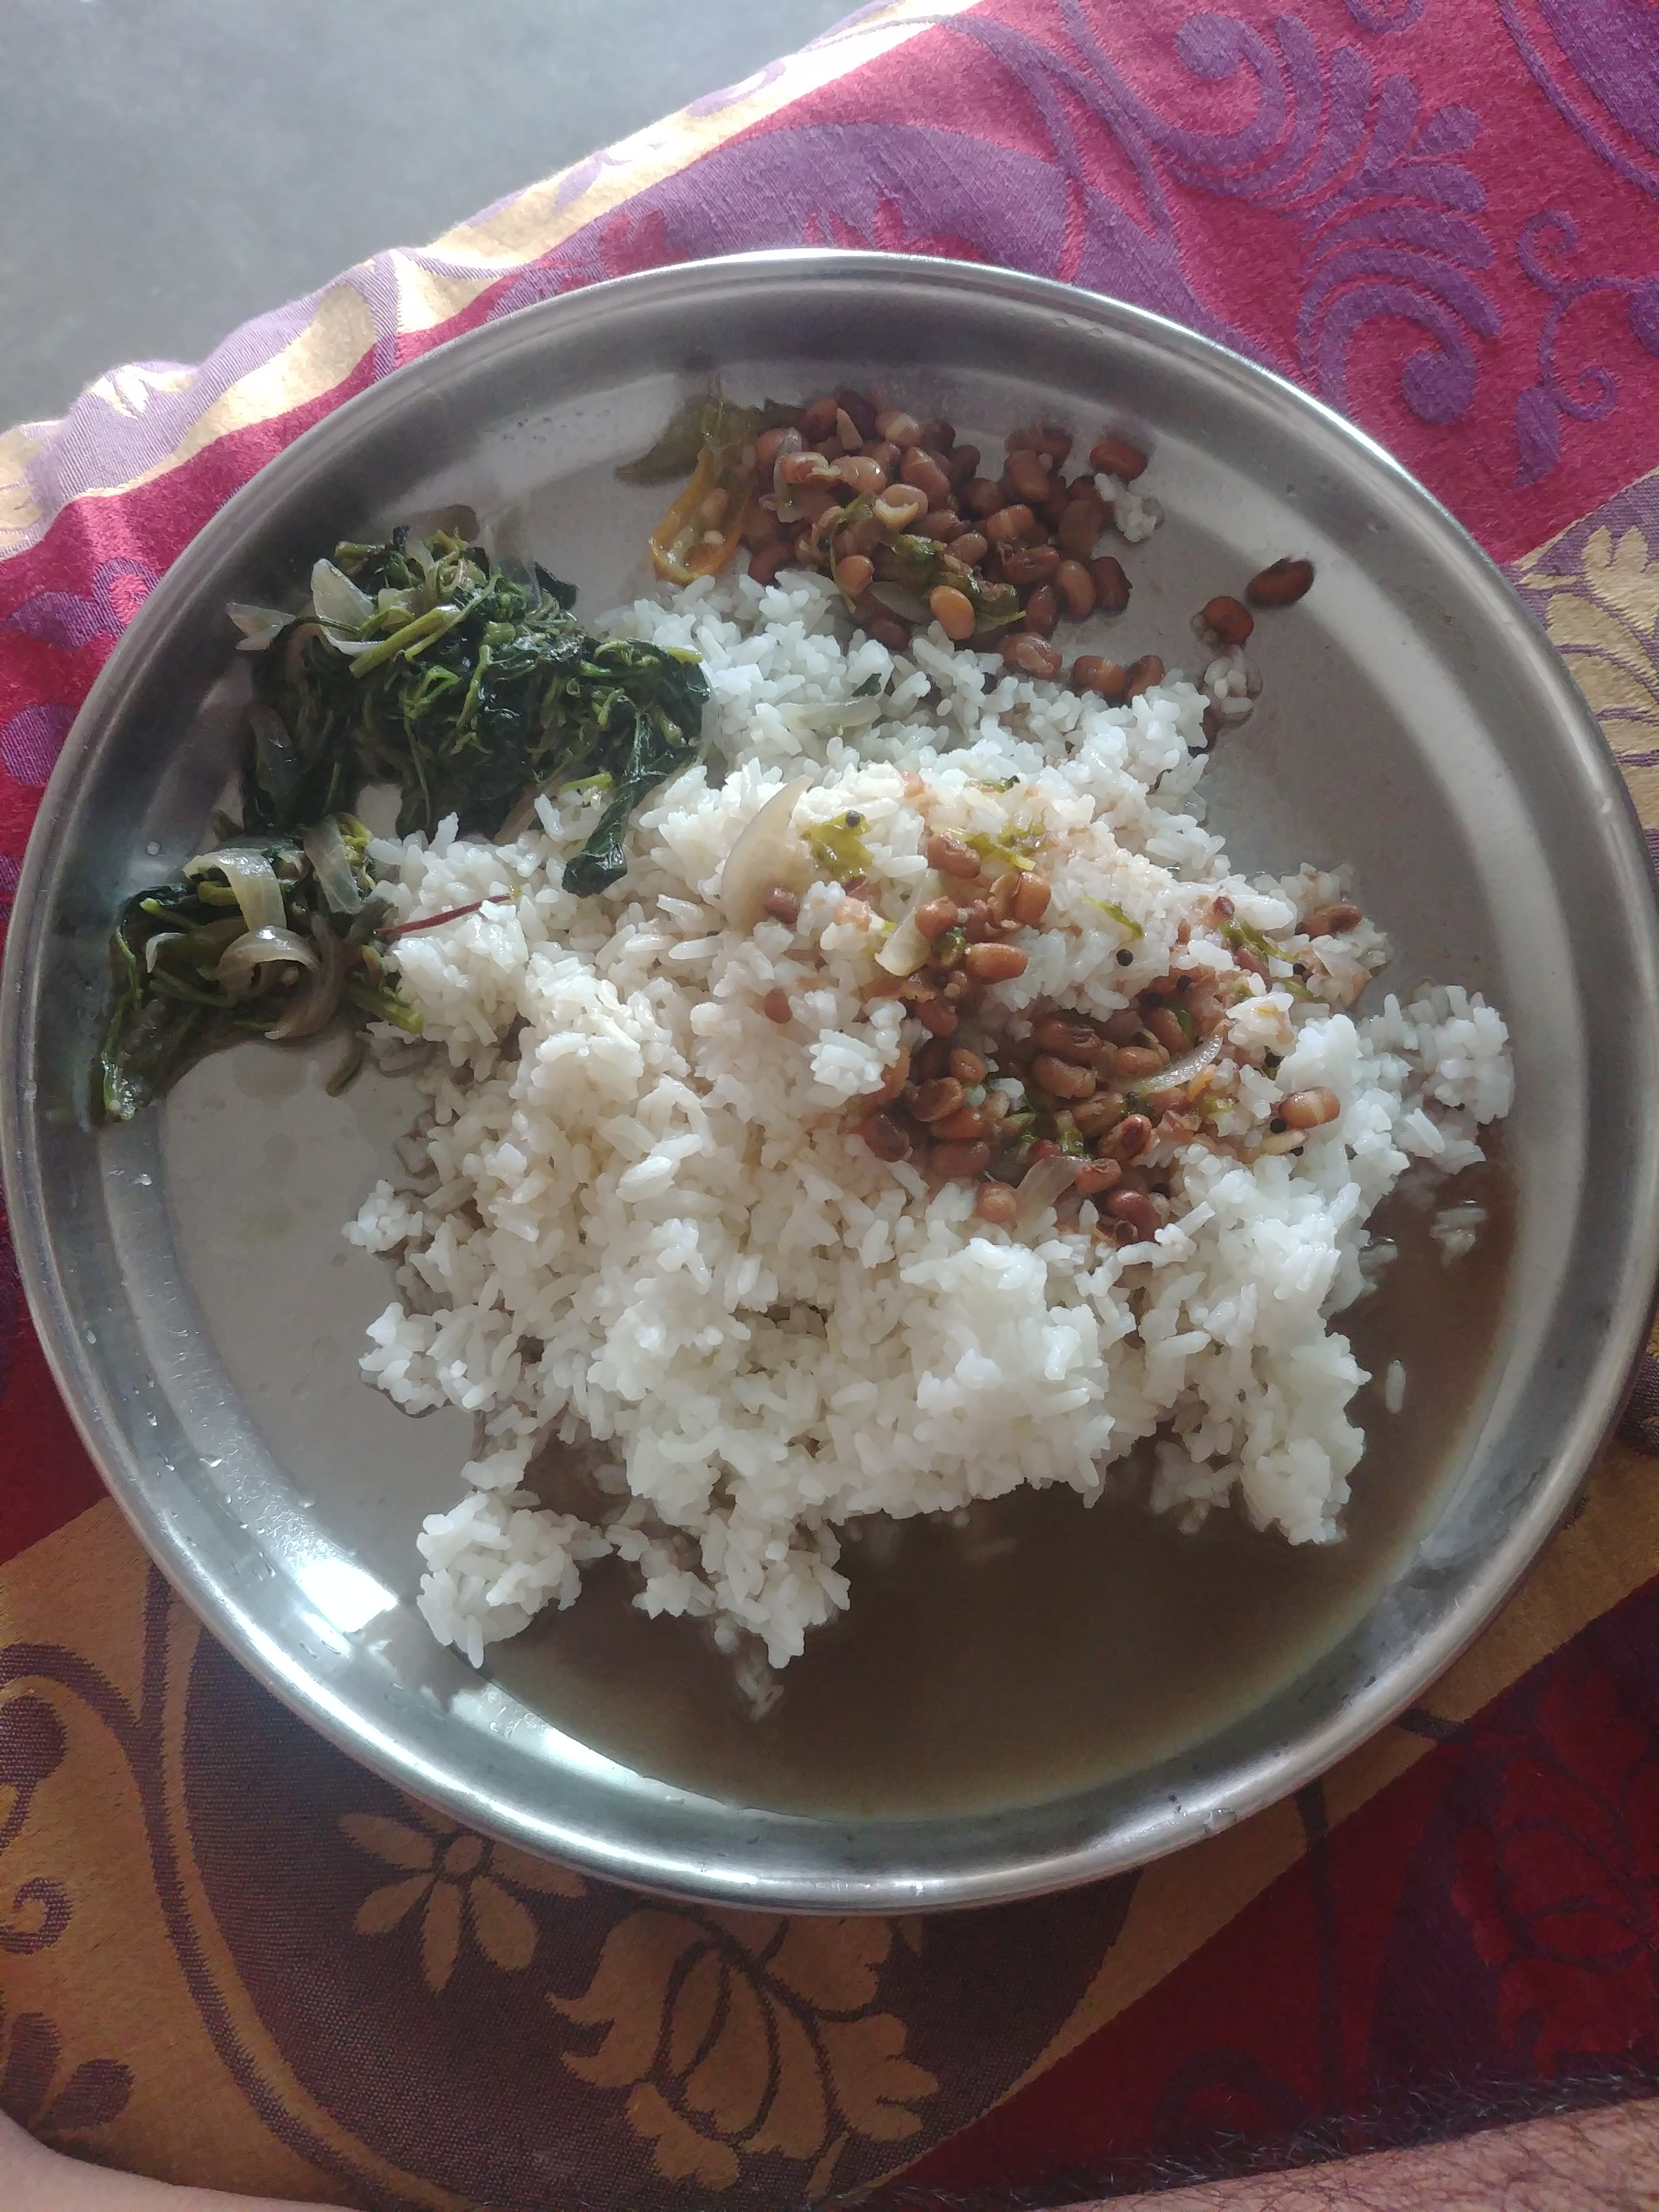food: (76, 361, 1526, 1727)
